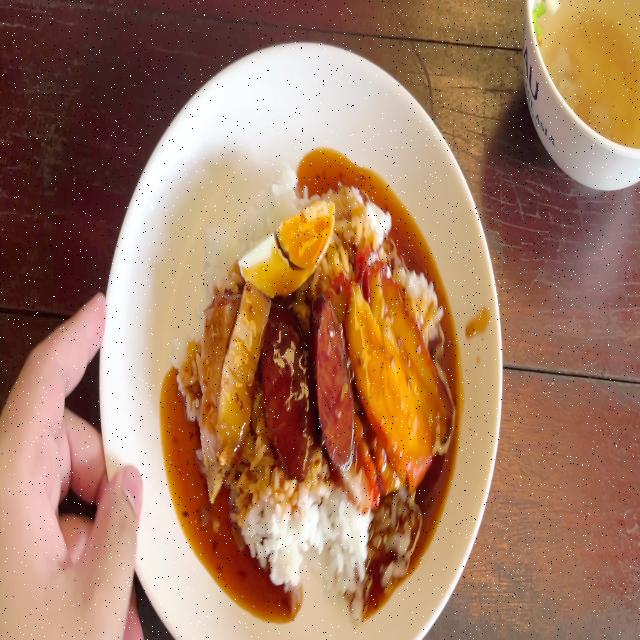boiled_egg: (239, 201, 335, 289)
chainese_sausage: (266, 288, 352, 474), (263, 302, 310, 478), (316, 305, 354, 460)
crispy_pork: (199, 298, 266, 485), (197, 304, 232, 488), (220, 299, 260, 456)
red_pork: (360, 262, 433, 472)
red_pork_and_crispy_pork: (179, 175, 447, 590)
rice: (234, 480, 366, 589), (257, 164, 299, 216), (345, 190, 388, 240), (208, 226, 241, 288)
